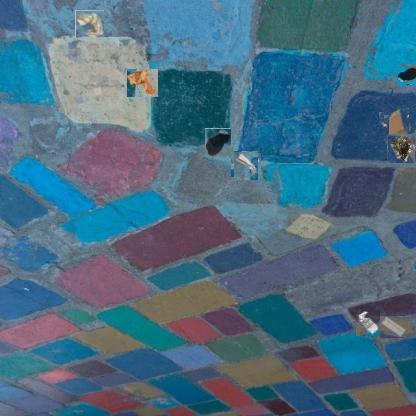dirty: (127, 69, 160, 97), (382, 110, 412, 140), (387, 133, 415, 163), (75, 10, 104, 38), (233, 152, 260, 178), (356, 310, 380, 336), (380, 316, 406, 338)
liquid: (205, 128, 231, 157), (397, 65, 416, 85)
